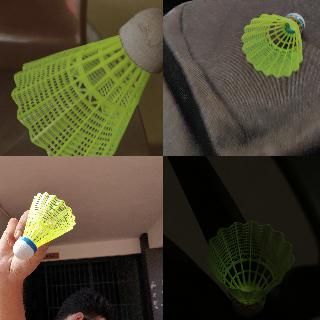shuttlecock: (11, 8, 162, 155), (204, 221, 294, 315), (13, 192, 75, 260), (242, 12, 308, 74)
